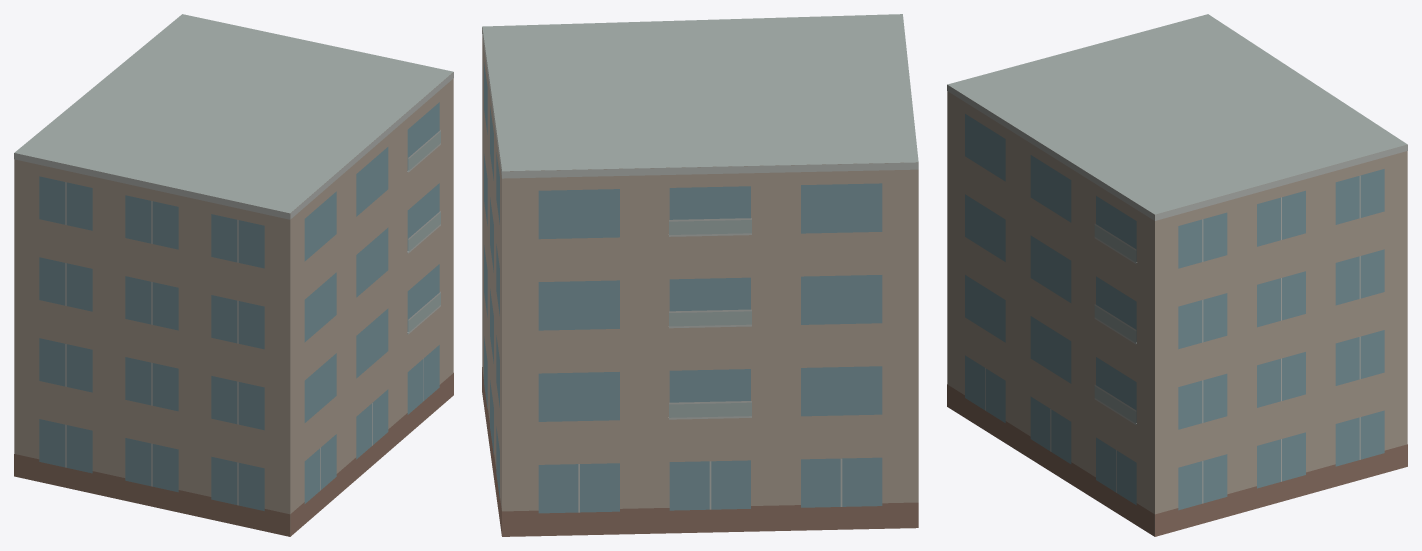
Rendered from survey-upis-32964093.glb.
3 renders of one model, left to right at view 1: azimuth 30°, elevation 25°; view 2: azimuth 150°, elevation 25°; view 3: azimuth 270°, elevation 25°, orthographic. The views are drawn at different scales.
Visible parts, largest first — view 1: survey-upis-32964093.tmp; view 2: survey-upis-32964093.tmp; view 3: survey-upis-32964093.tmp.
Boxes of the visible parts, x1,y1,x2,y2 form: survey-upis-32964093.tmp: [14, 14, 453, 536]; survey-upis-32964093.tmp: [482, 14, 918, 536]; survey-upis-32964093.tmp: [947, 14, 1407, 536].
Size of the model in its own units: 16.44 by 12.3 by 15.95.
